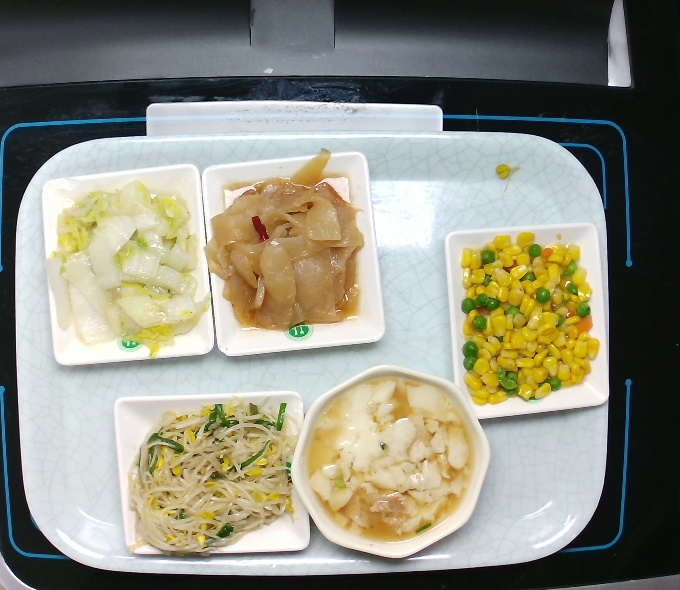wcq-DaBaiCai: (44, 176, 215, 366)
wcq-DongGua: (199, 146, 374, 339)
wcq-DouYa: (118, 391, 316, 565)
wcq-ShuiZhengDan: (300, 369, 483, 551)
wcq-TianMiTianDou: (453, 229, 605, 413)
